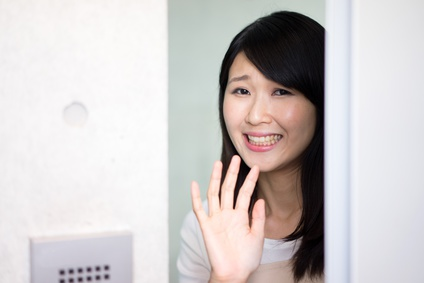face: (223, 51, 316, 170)
hand: (191, 155, 266, 276)
